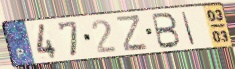2: (91, 18, 118, 54)
4: (35, 22, 58, 60)
7: (57, 20, 80, 58)
B: (150, 12, 183, 50)
I: (180, 11, 197, 46)
Z: (115, 13, 150, 52)
